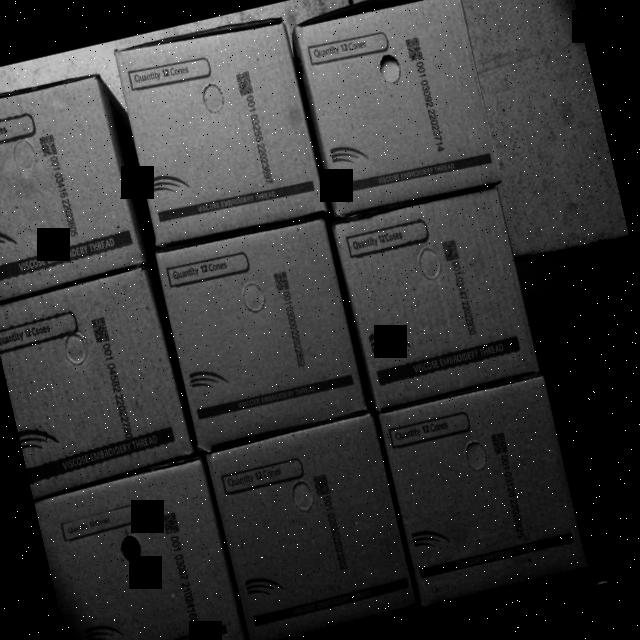box: (109, 2, 322, 248), (378, 378, 589, 608), (157, 217, 367, 446), (207, 414, 415, 640), (290, 0, 504, 219), (334, 188, 538, 406), (0, 267, 193, 490), (32, 459, 247, 640), (0, 72, 141, 298)
